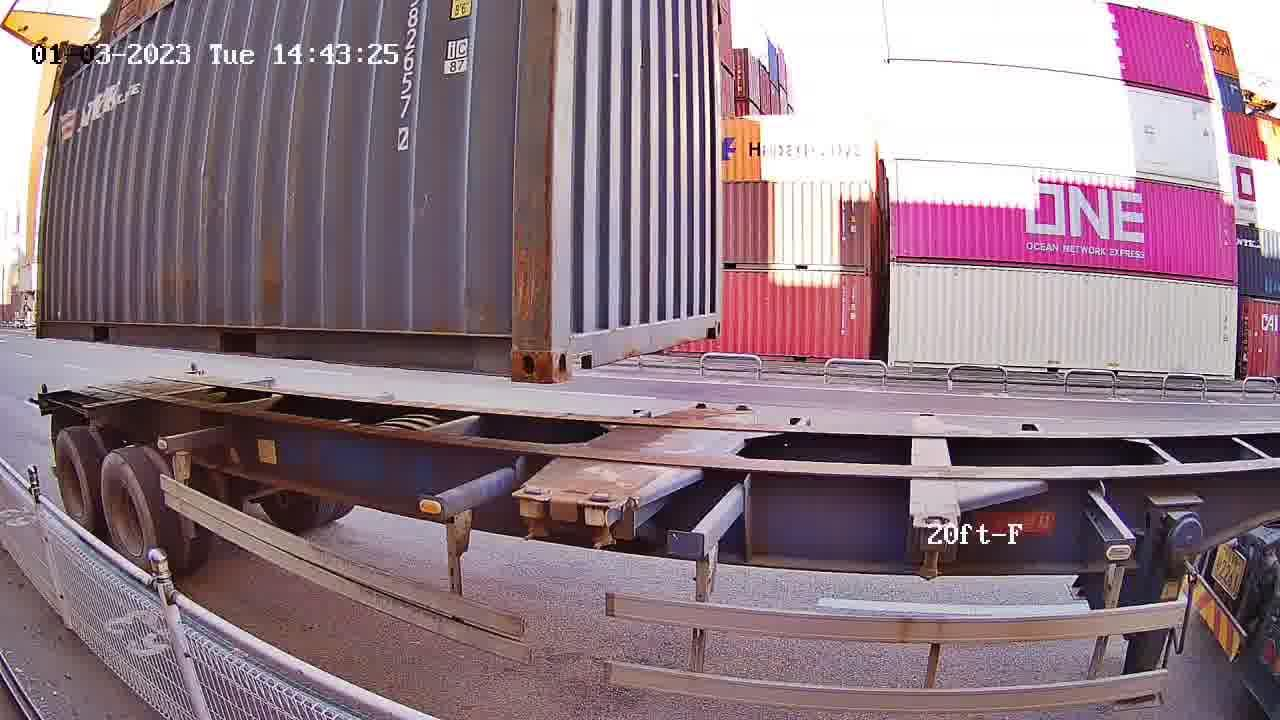Chassis: (516, 406, 710, 501), (583, 409, 754, 507)
Cone: (584, 493, 623, 551), (515, 486, 554, 540)
Hole_L: (553, 320, 596, 383)
Hole_R: (485, 318, 554, 383), (704, 303, 723, 340)
Tire: (101, 449, 157, 568), (54, 431, 96, 528)
